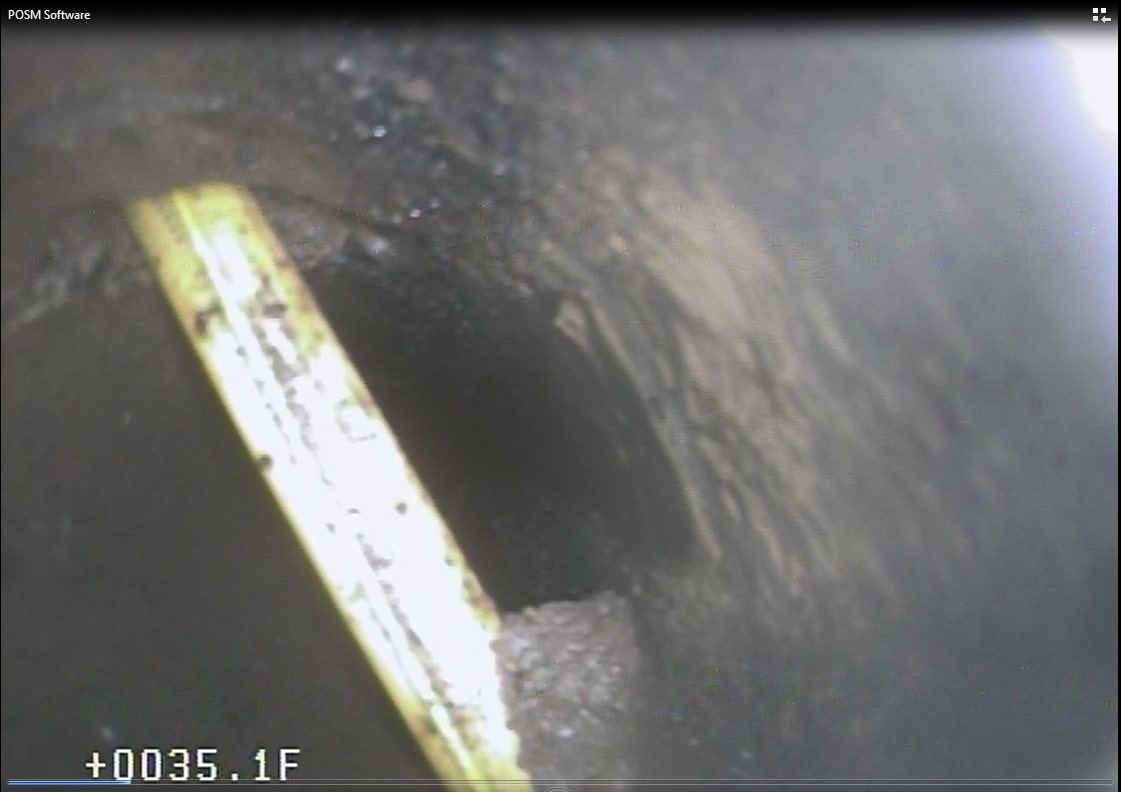cb: (78, 140, 564, 782)
